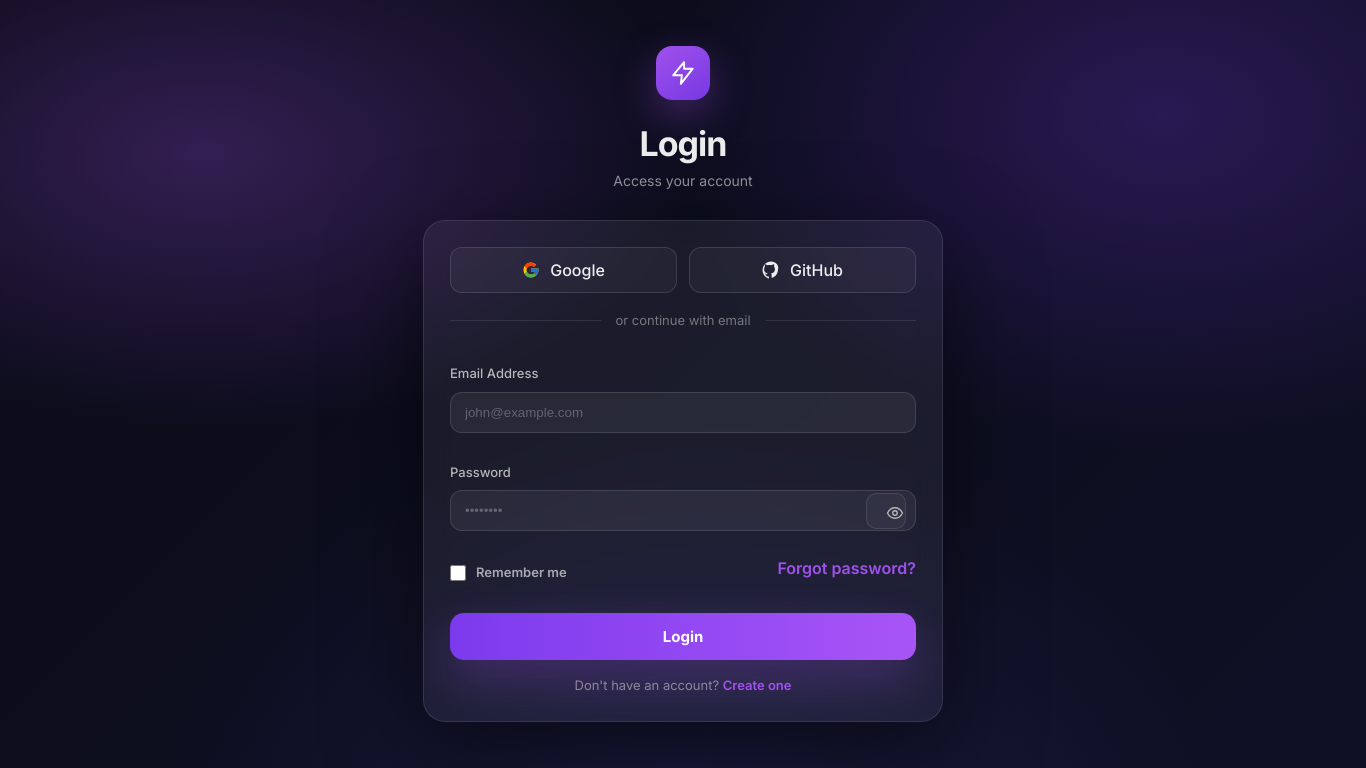
Test: Login › shows validation when email and password are missing
Click the button "Login" at {"x": 683, "y": 636}, box [450, 613, 916, 660]
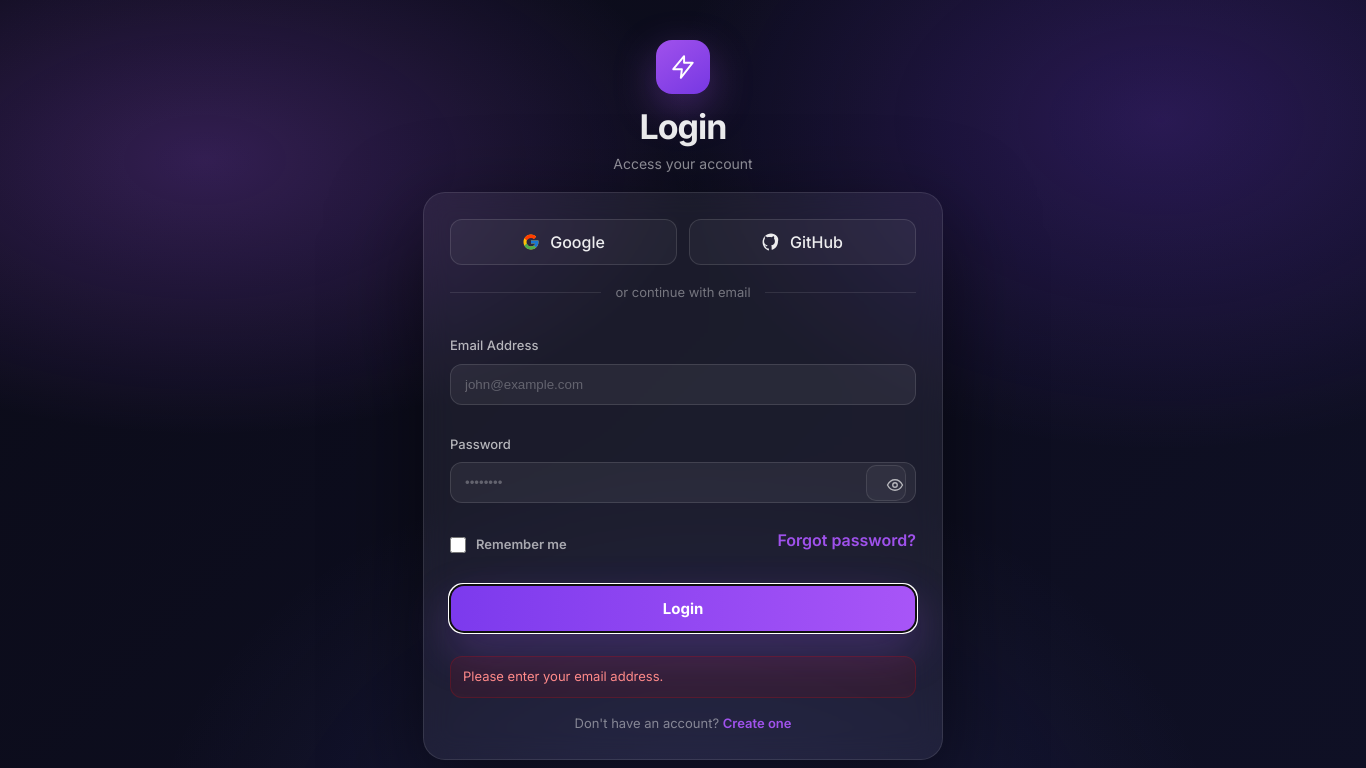
expect the text "Please enter your email address." is shown: met, box [450, 656, 916, 698]
